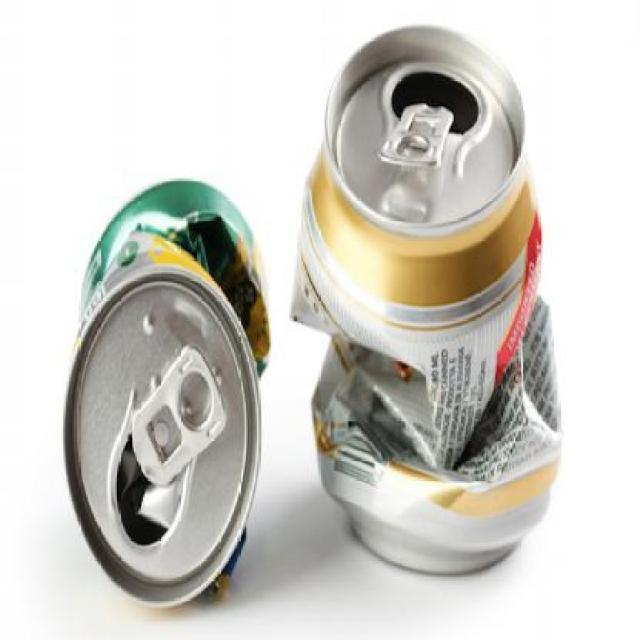can: (288, 23, 564, 579), (49, 103, 285, 631)
